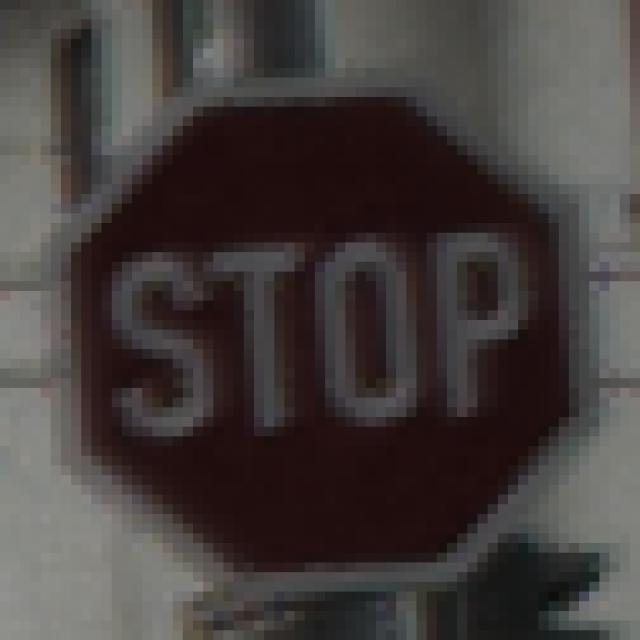STOP: (52, 59, 580, 583)
